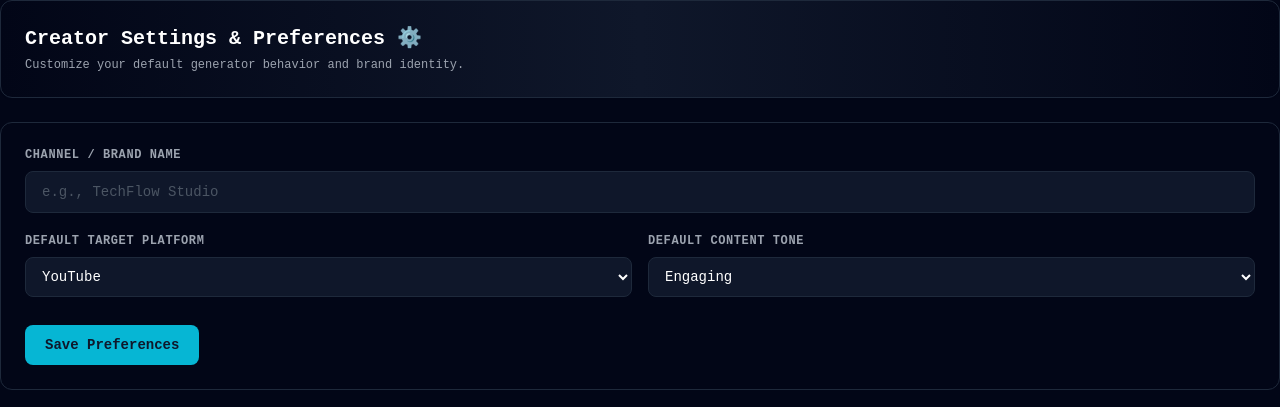
UserProfileSettings › shows an error message when Firestore fails to save
Click the button "Save Preferences".
click(112, 345)  # box [25,325,199,365]
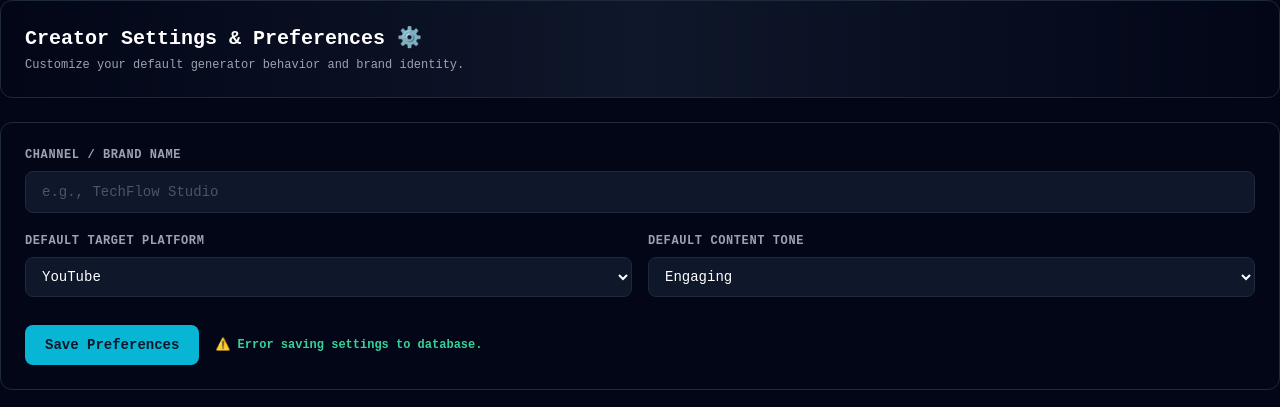
expect the text "⚠️ Error saving settings to database." is shown: met, box [215,337,482,353]
